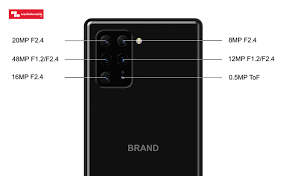sony: (81, 17, 203, 176)
